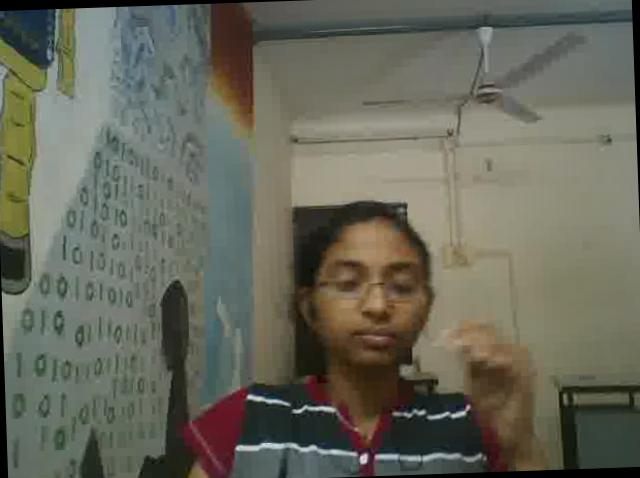bingung: (310, 224, 422, 370)
